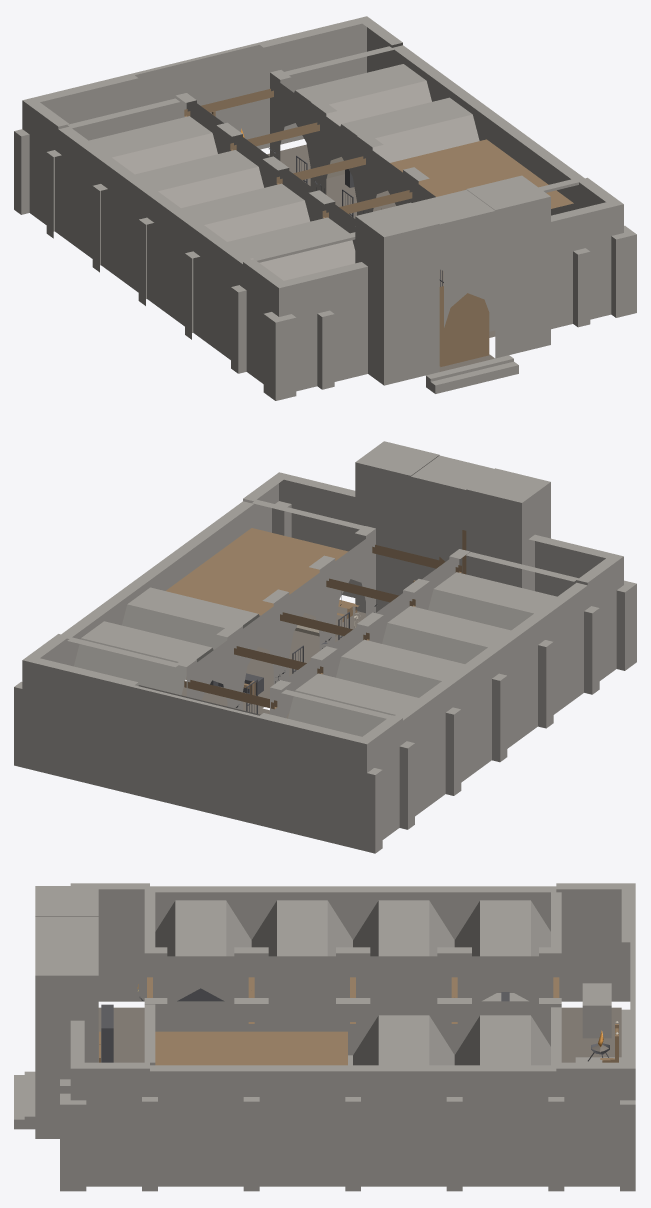
Rendered from ThePit_LOW.dae.
3 renders of one model, top to bottom at view 1: azimuth 30°, elevation 25°; view 2: azimuth 150°, elevation 25°; view 3: azimuth 270°, elevation 25°, orthographic. The views are drawn at different scales.
Visible parts, largest first — view 1: G_Tower_W_LOD1, G_Wall_W_LOD1, G_Tower_E_LOD1, G_Wall_E_LOD1, N_Back_C_LOD1, G_Arch_LOD1, C02_Wall_LOD1, C03_Wall_LOD1, C04_Wall_LOD1, C07_Vault_LOD1, N_Back_E_LOD1, C01_Wall_LOD1 (+34 smaller); view 2: N_Back_C_LOD1, N_Back_W_LOD1, N_Back_E_LOD1, G_Tower_W_LOD1, C05_Roof_LOD1, G_Tower_E_LOD1, C03_Wall_LOD1, C04_Wall_LOD1, C08_Vault_LOD1, C02_Wall_LOD1, C01_Wall_LOD1, G_Arch_LOD1 (+35 smaller); view 3: C05_Wall_LOD1, C08_Wall_LOD1, C07_Wall_LOD1, N_Wall_E_LOD1, G_Tower_E_LOD1, V_Wall_E_LOD1, N_Wall_W_LOD1, C05_Roof_LOD1, V_Wall_W_LOD1, C03_Vault_LOD1, C02_Vault_LOD1, C01_Vault_LOD1 (+39 smaller).
Part boxes in pixels (x1=…): G_Tower_W_LOD1: x1=355, y1=202, x2=439, y2=385; G_Wall_W_LOD1: x1=263, y1=262, x2=367, y2=400; G_Tower_E_LOD1: x1=466, y1=175, x2=550, y2=358; G_Wall_E_LOD1: x1=551, y1=199, x2=636, y2=329; N_Back_C_LOD1: x1=132, y1=43, x2=263, y2=146; G_Arch_LOD1: x1=412, y1=189, x2=495, y2=327; C02_Wall_LOD1: x1=138, y1=194, x2=207, y2=334; C03_Wall_LOD1: x1=92, y1=160, x2=161, y2=301; C04_Wall_LOD1: x1=46, y1=126, x2=115, y2=267; C07_Vault_LOD1: x1=340, y1=97, x2=479, y2=162; N_Back_E_LOD1: x1=257, y1=19, x2=361, y2=149; C01_Wall_LOD1: x1=185, y1=228, x2=250, y2=359; N_Back_C_LOD1: x1=132, y1=685, x2=260, y2=824; N_Back_W_LOD1: x1=257, y1=713, x2=361, y2=848; N_Back_E_LOD1: x1=33, y1=658, x2=137, y2=794; G_Tower_W_LOD1: x1=466, y1=468, x2=550, y2=590; C05_Roof_LOD1: x1=166, y1=528, x2=348, y2=615; G_Tower_E_LOD1: x1=355, y1=441, x2=439, y2=613; C03_Wall_LOD1: x1=438, y1=650, x2=495, y2=795; C04_Wall_LOD1: x1=395, y1=684, x2=449, y2=829; C08_Vault_LOD1: x1=74, y1=621, x2=213, y2=695; C02_Wall_LOD1: x1=484, y1=616, x2=541, y2=762; C01_Wall_LOD1: x1=531, y1=582, x2=587, y2=728; G_Arch_LOD1: x1=411, y1=455, x2=493, y2=579; C05_Wall_LOD1: x1=150, y1=1065, x2=360, y2=1191; C08_Wall_LOD1: x1=454, y1=1065, x2=564, y2=1191; C07_Wall_LOD1: x1=353, y1=1065, x2=462, y2=1191; N_Wall_E_LOD1: x1=556, y1=1062, x2=635, y2=1191; G_Tower_E_LOD1: x1=35, y1=945, x2=98, y2=1138; V_Wall_E_LOD1: x1=84, y1=1062, x2=157, y2=1191; N_Wall_W_LOD1: x1=556, y1=883, x2=635, y2=1001; C05_Roof_LOD1: x1=155, y1=1031, x2=347, y2=1065; V_Wall_W_LOD1: x1=84, y1=883, x2=149, y2=1001; C03_Vault_LOD1: x1=353, y1=900, x2=454, y2=956; C02_Vault_LOD1: x1=251, y1=900, x2=352, y2=956; C01_Vault_LOD1: x1=155, y1=900, x2=251, y2=956.
Size of the model in its own units: 26 by 35.27 by 11.
